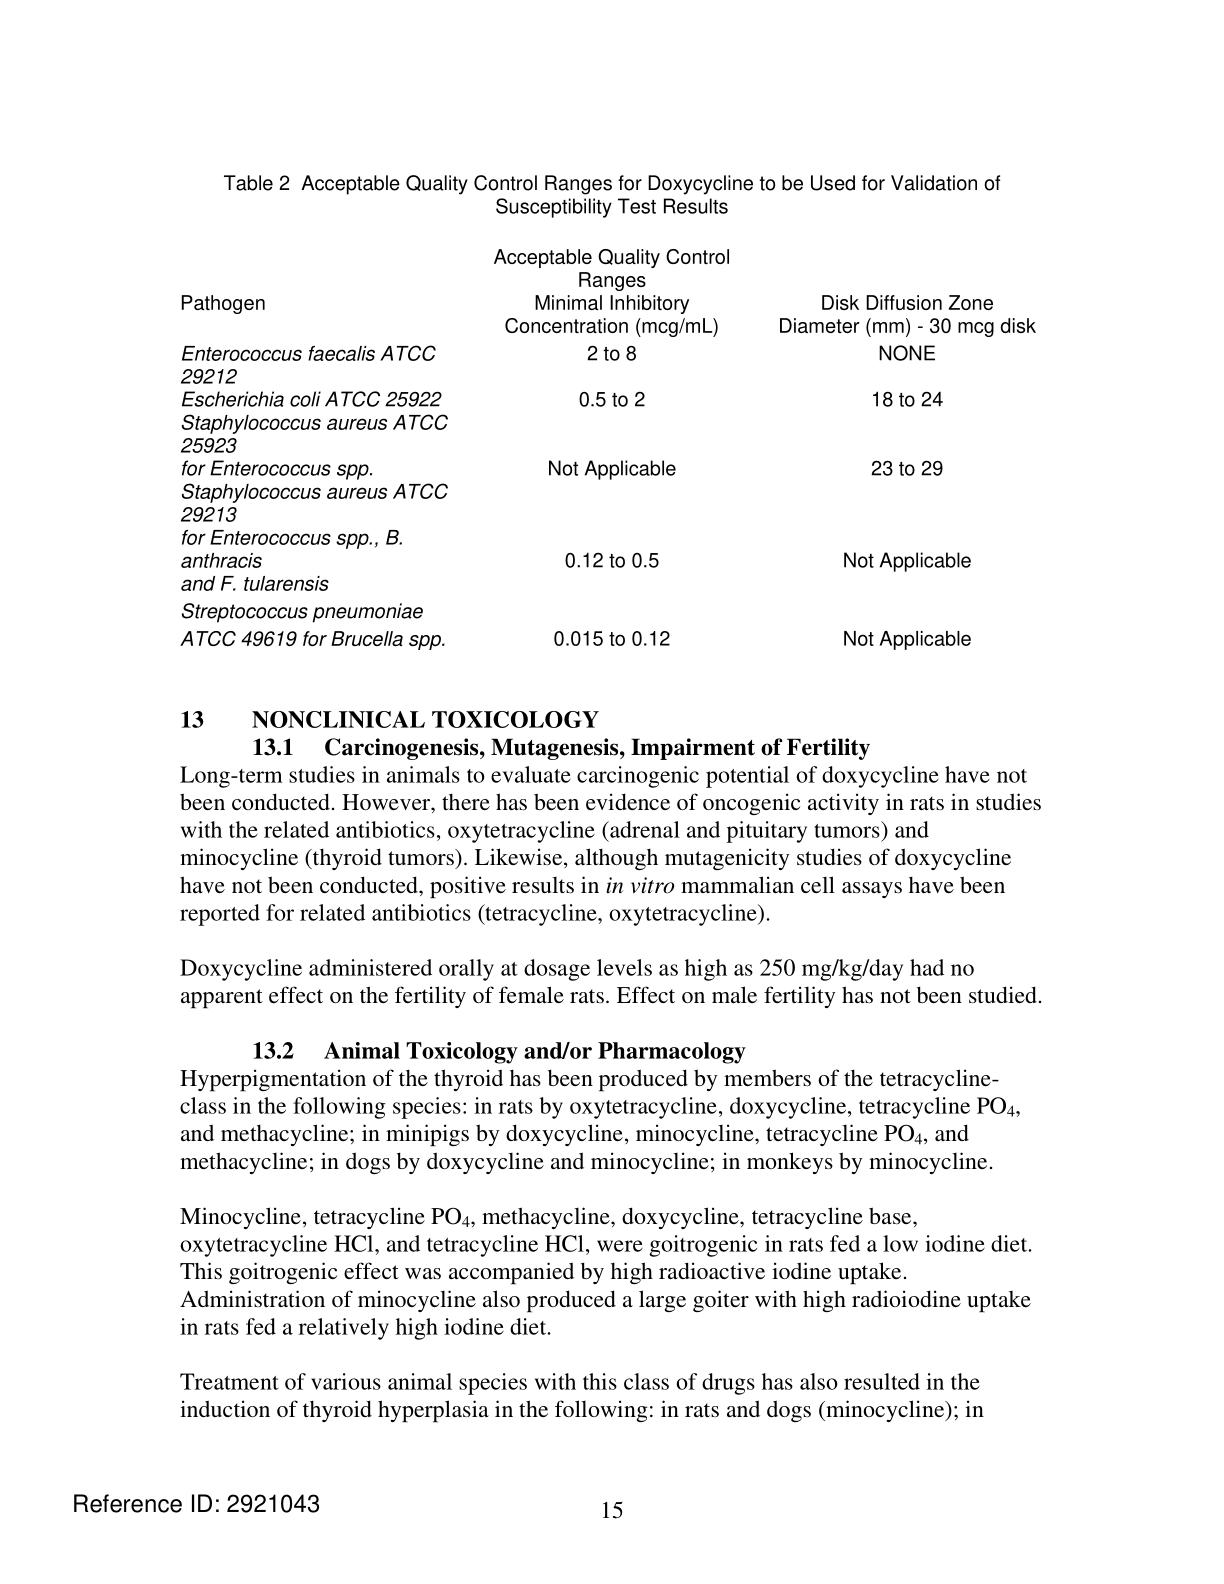nolines: (177, 247, 1036, 651)
